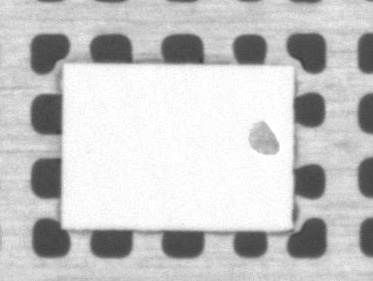DIE_INK: (247, 119, 279, 158)
